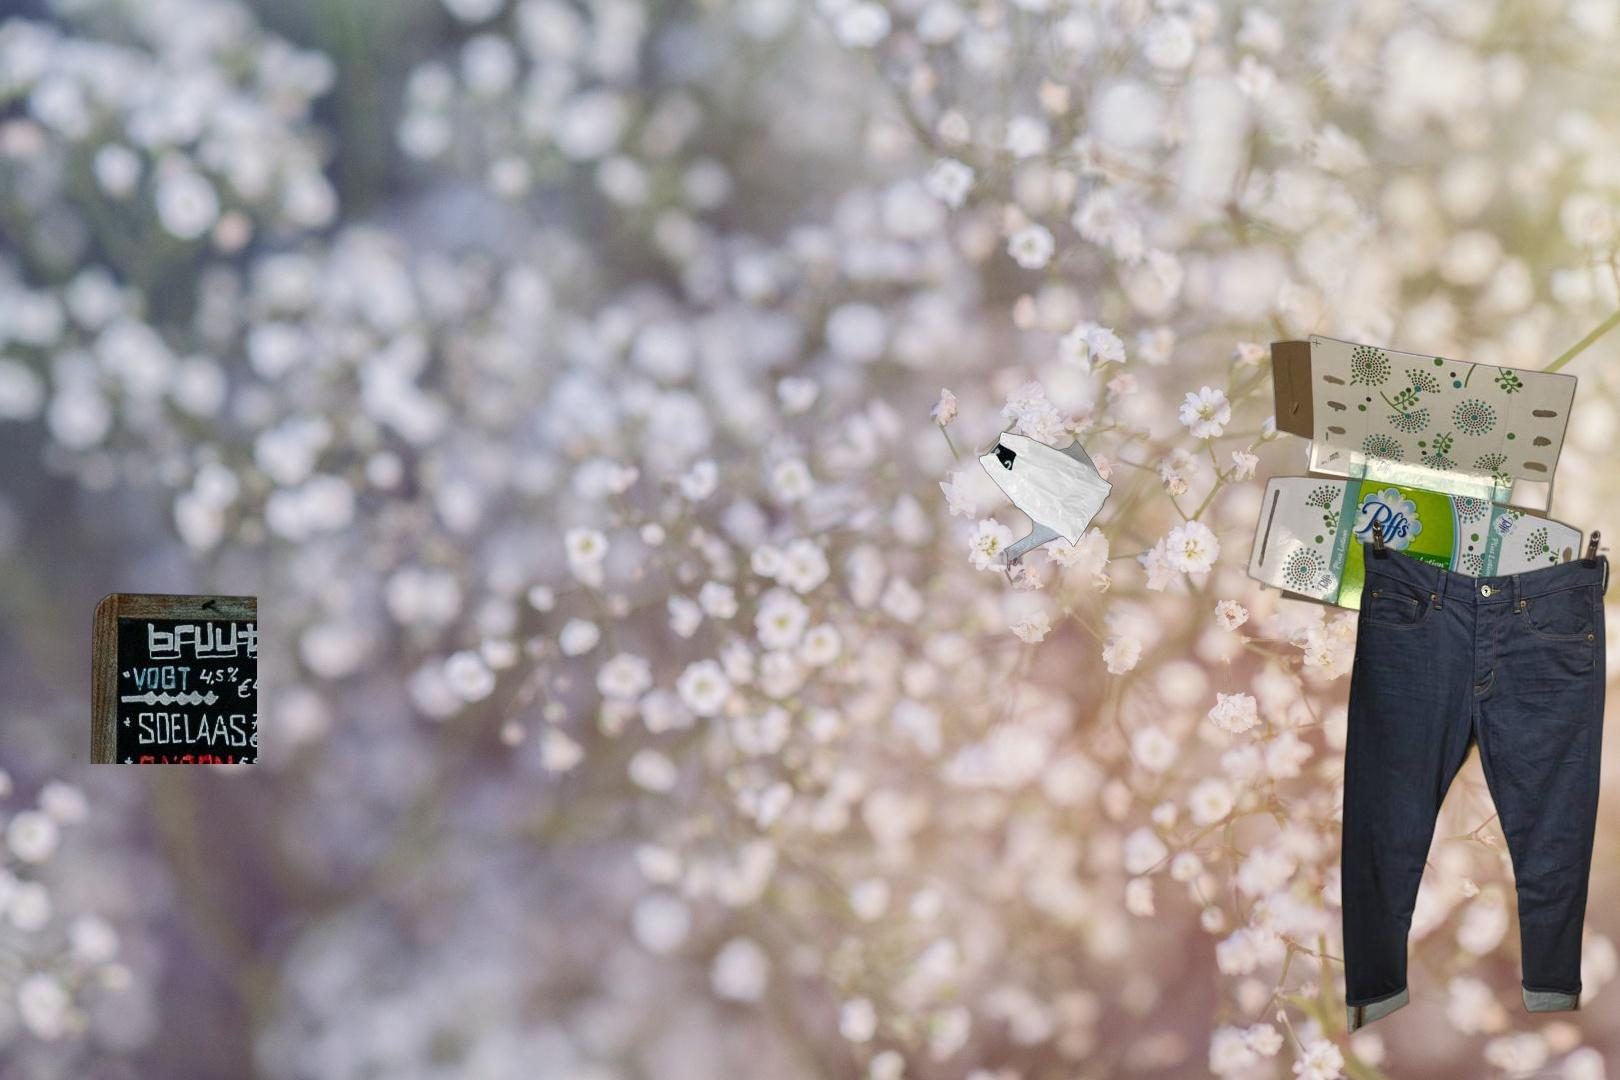clothes: (1338, 517, 1612, 1038)
paper: (1242, 331, 1587, 644)
paper-bag: (69, 589, 257, 764)
plastic-bag: (914, 429, 1116, 588)
